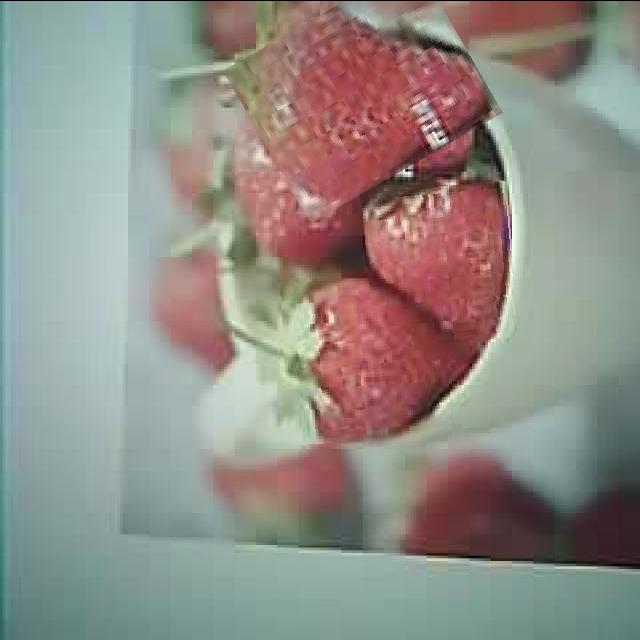strawberry: (238, 0, 489, 199), (282, 276, 460, 442), (364, 182, 516, 345)
